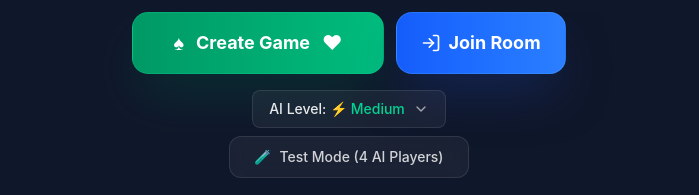
Test: CreateGameSection Component › Join Room Functionality › shows input field when join button is clicked
Click the button "Join Room" at [481, 43], box [396,12,566,74]
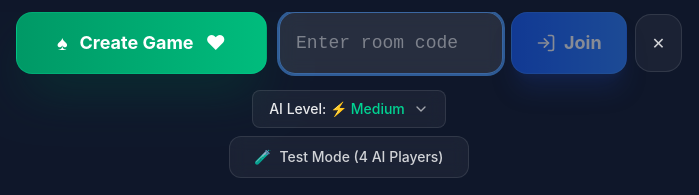
Expected: the button "Join" is shown, [511,12,627,74]
Expected: the field with placeholder "Enter room code" is shown, [279,12,503,74]
